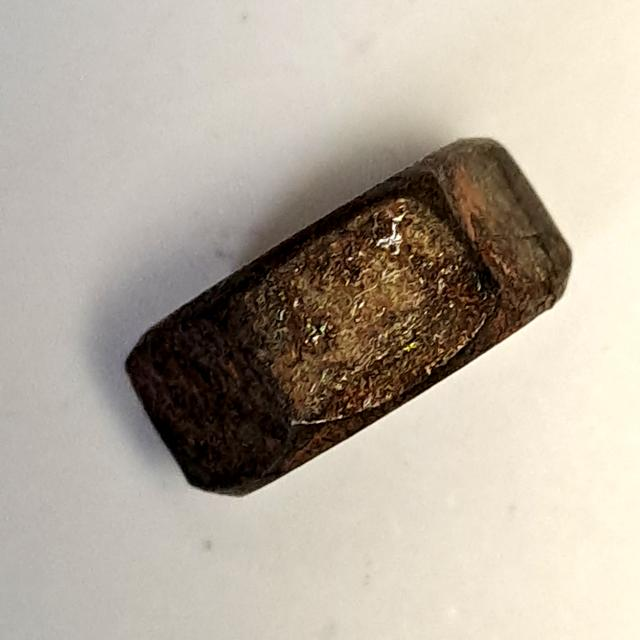Side_Rust: (105, 109, 591, 519)
